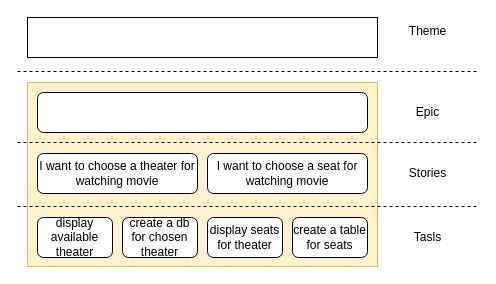
Image size: 496x284. Some labels were removed from this diagram. Here are the shapes that lost their labels. From the top down, the box of each, then its label:
(26, 16, 378, 58): Booking A Movie Ticket
(36, 92, 368, 132): As a customer, I want to book a movie ticket so that i can go watch a movie
